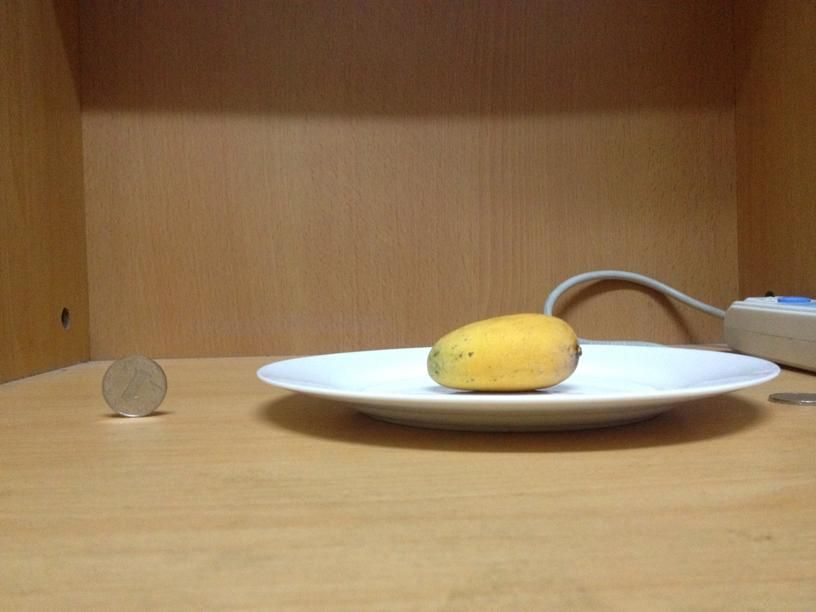coin: (94, 354, 168, 417)
mango: (419, 312, 582, 391)
